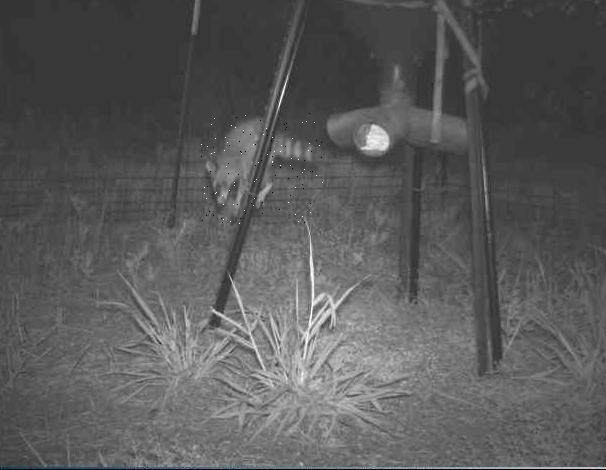Raccoon: (201, 113, 323, 224)
